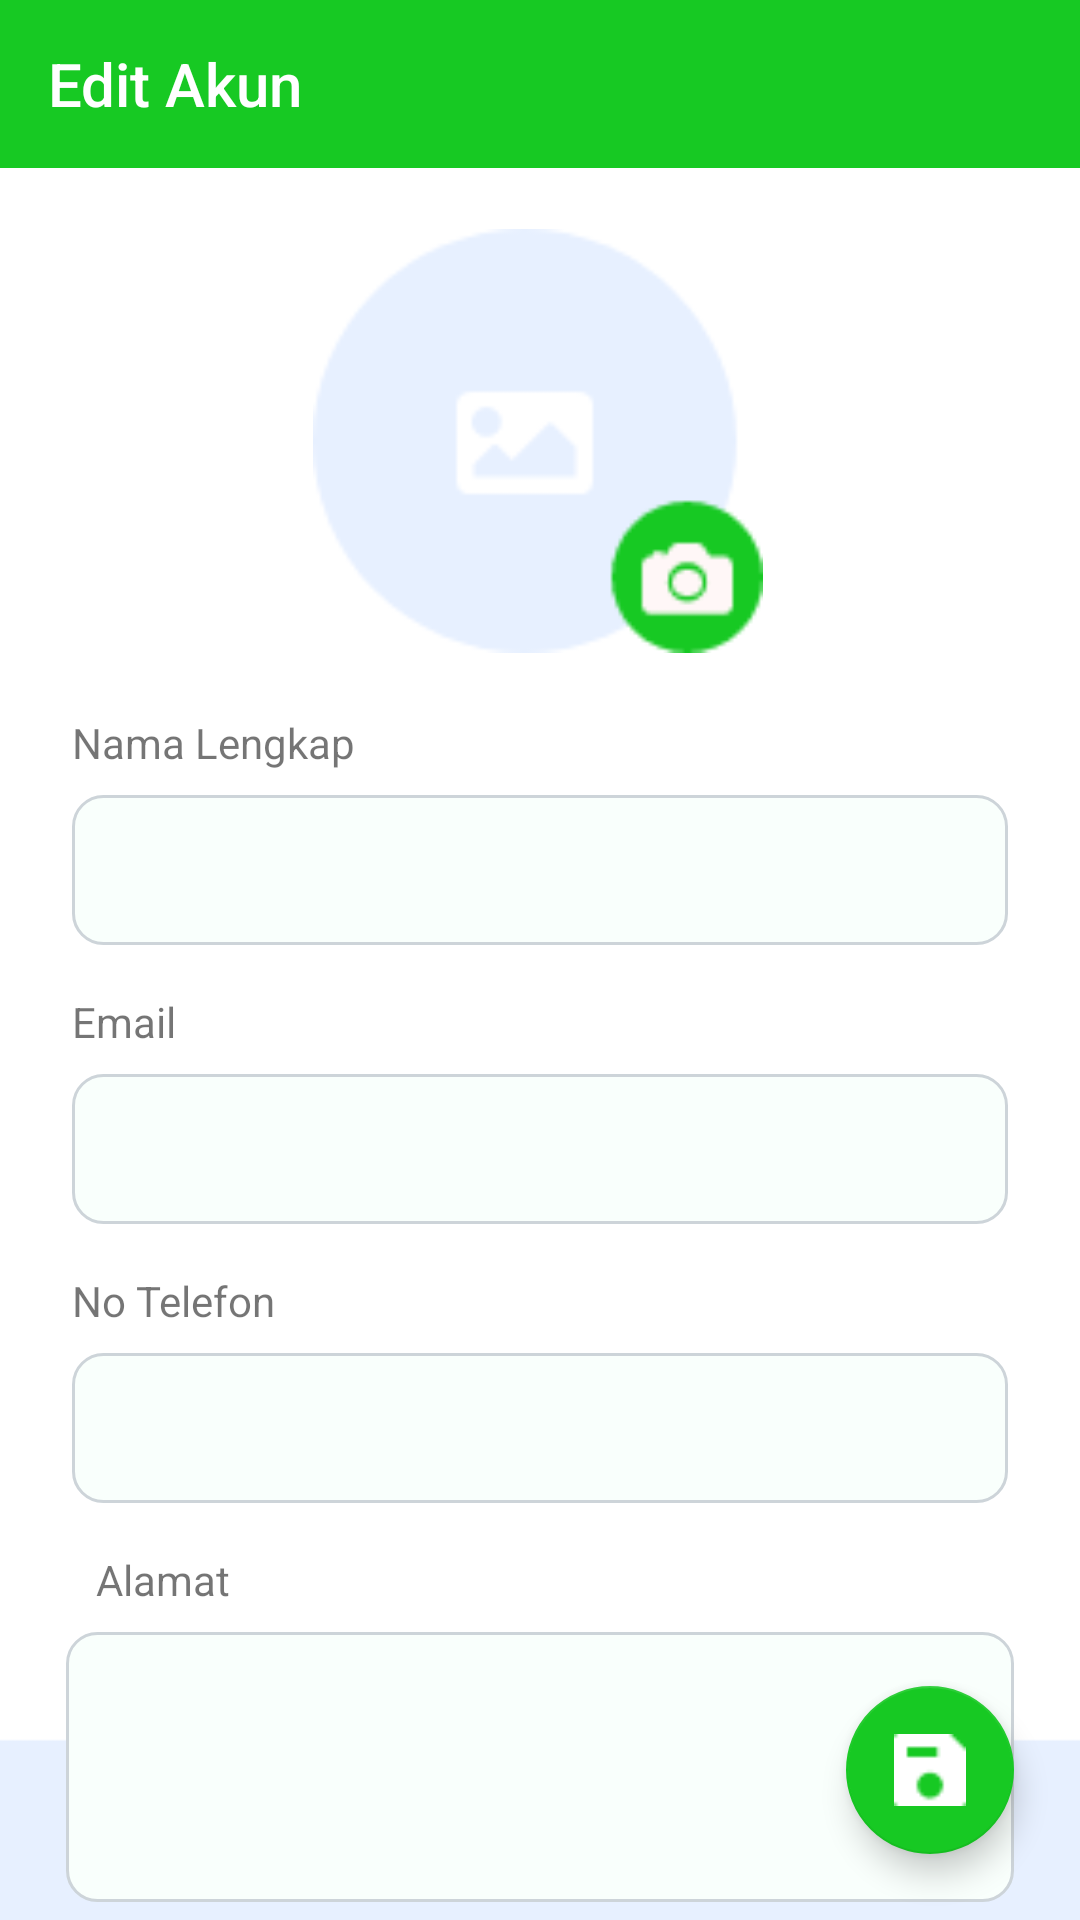

Named icons in this screenshot (1080 x 1920) and their centers, point (x, y):
add photo: point (686, 576)
save: point (930, 1770)
